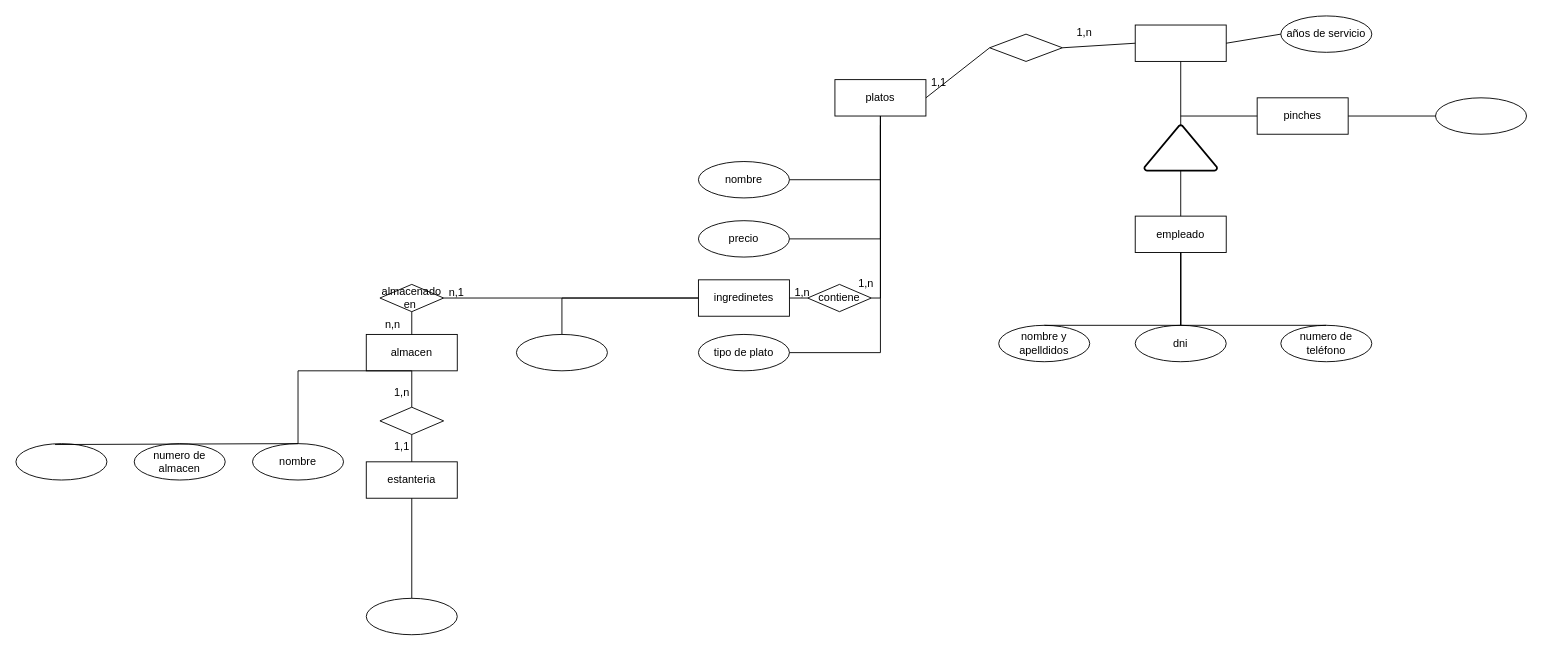
This 1542x651 diagram has some shape labels left out. Here are the shapes that lost their labels. From the top down, the box of each, then its label:
(989, 33, 1062, 61): pueden hacer
(1134, 24, 1226, 61): cocineros
(1435, 97, 1527, 134): fecha de nacimineto
(1143, 124, 1218, 171): isa
(516, 334, 607, 371): cantidad
(379, 406, 444, 435): tiene
(15, 443, 107, 480): descripcion
(365, 597, 457, 635): identificador
